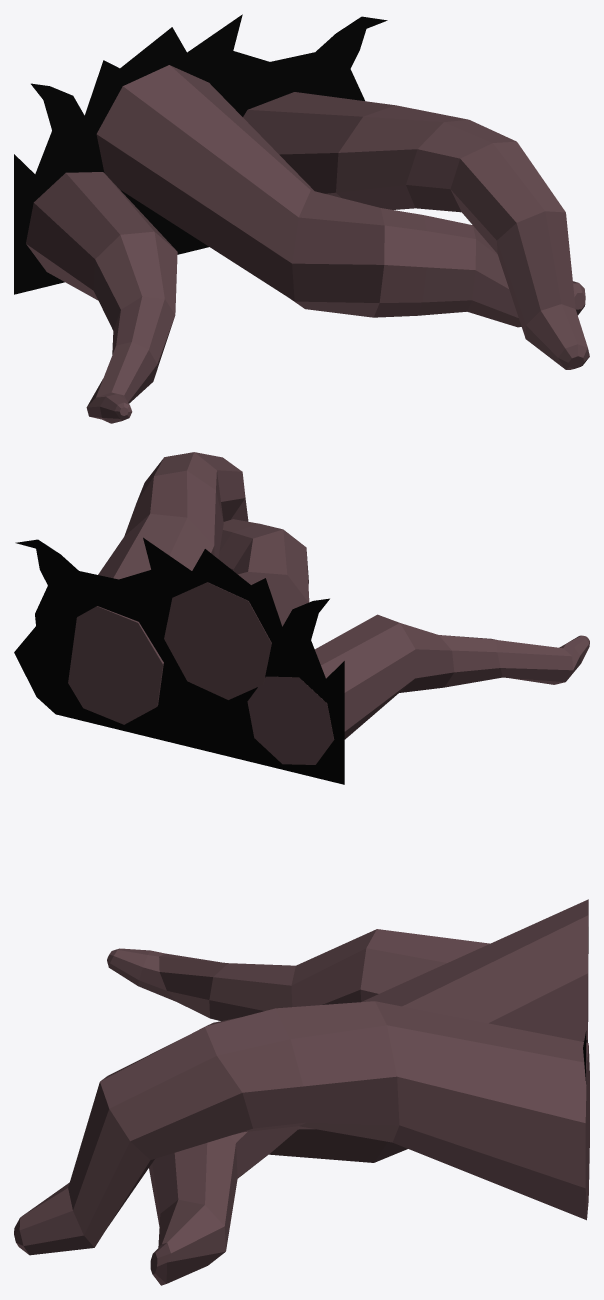
File: Roots.gltf
3 renders of one model, top to bottom at view 1: azimuth 30°, elevation 25°; view 2: azimuth 150°, elevation 25°; view 3: azimuth 270°, elevation 25°, orthographic. The views are drawn at different scales.
Visible parts, largest first — view 1: Roots; view 2: Roots; view 3: Roots.
Part boxes in pixels (x1,y1,x2,y2): Roots: (14,14,589,423); Roots: (14,452,589,784); Roots: (14,899,589,1285).
Bounding box in the file's own units: 0.6578 × 0.2914 × 0.5362.
